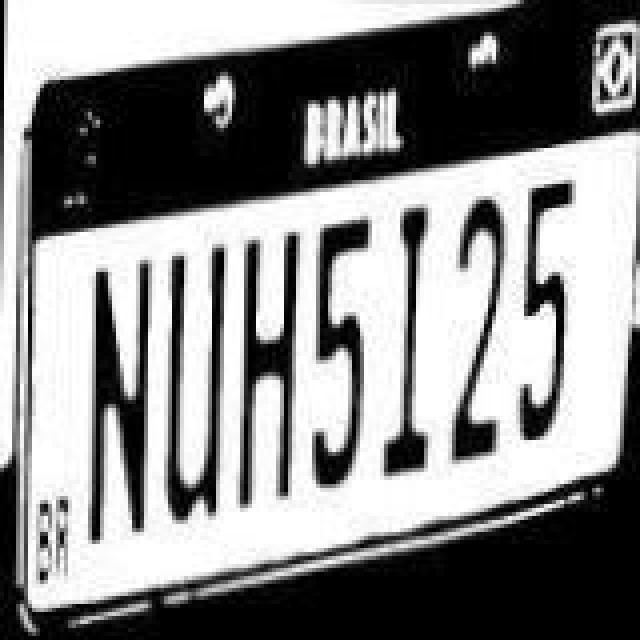2: (442, 174, 518, 458)
5: (308, 196, 380, 480), (518, 162, 586, 430)
H: (234, 214, 310, 502)
I: (378, 184, 446, 472)
N: (84, 246, 160, 554)
U: (156, 226, 232, 526)
